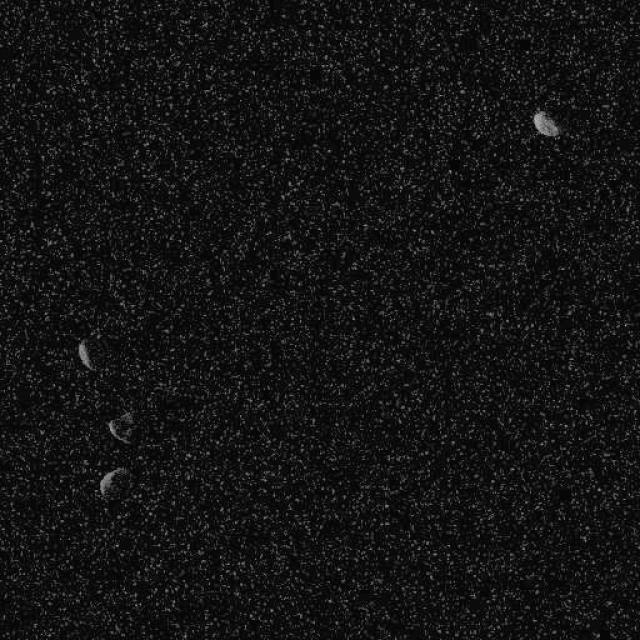D2: (98, 467, 132, 498), (106, 408, 135, 444), (531, 109, 559, 138), (76, 338, 96, 372)
